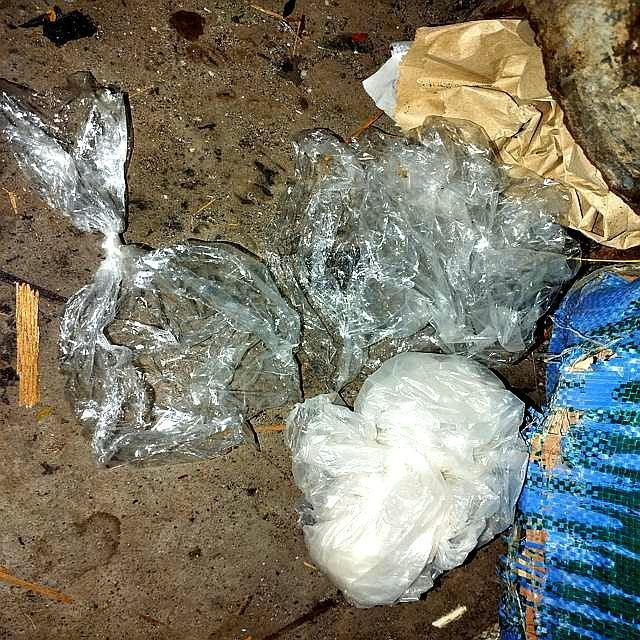Non-biodegradable: (285, 123, 529, 605), (5, 95, 297, 469)
